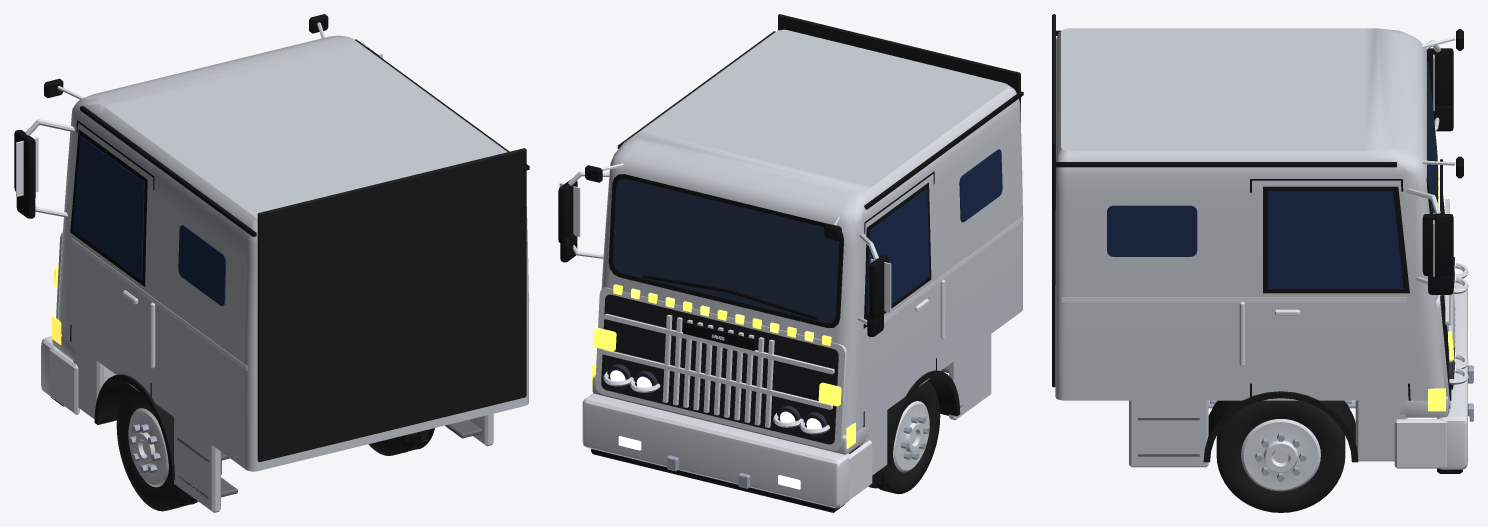
Rendered from cab_flat_quad.glb.
3 renders of one model, left to right at view 1: azimuth 30°, elevation 25°; view 2: azimuth 150°, elevation 25°; view 3: azimuth 270°, elevation 25°, orthographic. The views are drawn at different scales.
Parts seen in each view (by area): view 1: truck_paint_white_panel, truck_plastic_trim, truck_glass, truck_plastic_black, truck_chrome, wheel_f_L, wheel_f_R, truck_diamond; view 2: truck_paint_white_panel, truck_chrome, truck_glass_wind, truck_vent_slots, truck_plastic_black, truck_glass, truck_plastic_trim, wheel_f_L, truck_lamp_amber, truck_lamp_white, truck_glass_lens, truck_lamp_yellow; view 3: truck_paint_white_panel, truck_glass, wheel_f_R, truck_chrome, truck_plastic_black, truck_plastic_trim, truck_glass_wind, truck_lamp_amber.
Boxes of the visible parts, left/top/right/bottom form: truck_paint_white_panel: left=52, top=35, right=528, bottom=512; truck_plastic_trim: left=94, top=148, right=526, bottom=479; truck_glass: left=73, top=136, right=226, bottom=305; truck_plastic_black: left=14, top=14, right=529, bottom=406; truck_chrome: left=16, top=22, right=529, bottom=414; wheel_f_L: left=116, top=385, right=197, bottom=511; wheel_f_R: left=368, top=428, right=434, bottom=455; truck_diamond: left=177, top=420, right=481, bottom=498; truck_paint_white_panel: left=592, top=29, right=1022, bottom=475; truck_chrome: left=559, top=163, right=1023, bottom=508; truck_glass_wind: left=612, top=179, right=839, bottom=323; truck_vent_slots: left=601, top=294, right=838, bottom=444; truck_plastic_black: left=558, top=31, right=1023, bottom=512; truck_glass: left=867, top=149, right=1002, bottom=319; truck_plastic_trim: left=778, top=14, right=1020, bottom=465; wheel_f_L: left=868, top=380, right=940, bottom=494; truck_lamp_amber: left=592, top=284, right=855, bottom=448; truck_lamp_white: left=610, top=370, right=821, bottom=489; truck_glass_lens: left=607, top=364, right=827, bottom=437; truck_lamp_yellow: left=631, top=288, right=814, bottom=341; truck_paint_white_panel: left=1055, top=28, right=1449, bottom=467; truck_glass: left=1107, top=191, right=1403, bottom=288; wheel_f_R: left=1216, top=400, right=1345, bottom=512; truck_chrome: left=1061, top=37, right=1468, bottom=469; truck_plastic_black: left=1055, top=29, right=1463, bottom=473; truck_plastic_trim: left=1052, top=14, right=1358, bottom=462; truck_glass_wind: left=1427, top=61, right=1437, bottom=213; truck_lamp_amber: left=1428, top=171, right=1453, bottom=411.
Size of the model in its own units: 3.24 by 3.2 by 3.27.
Materials: 15 (6 with a texture image).
